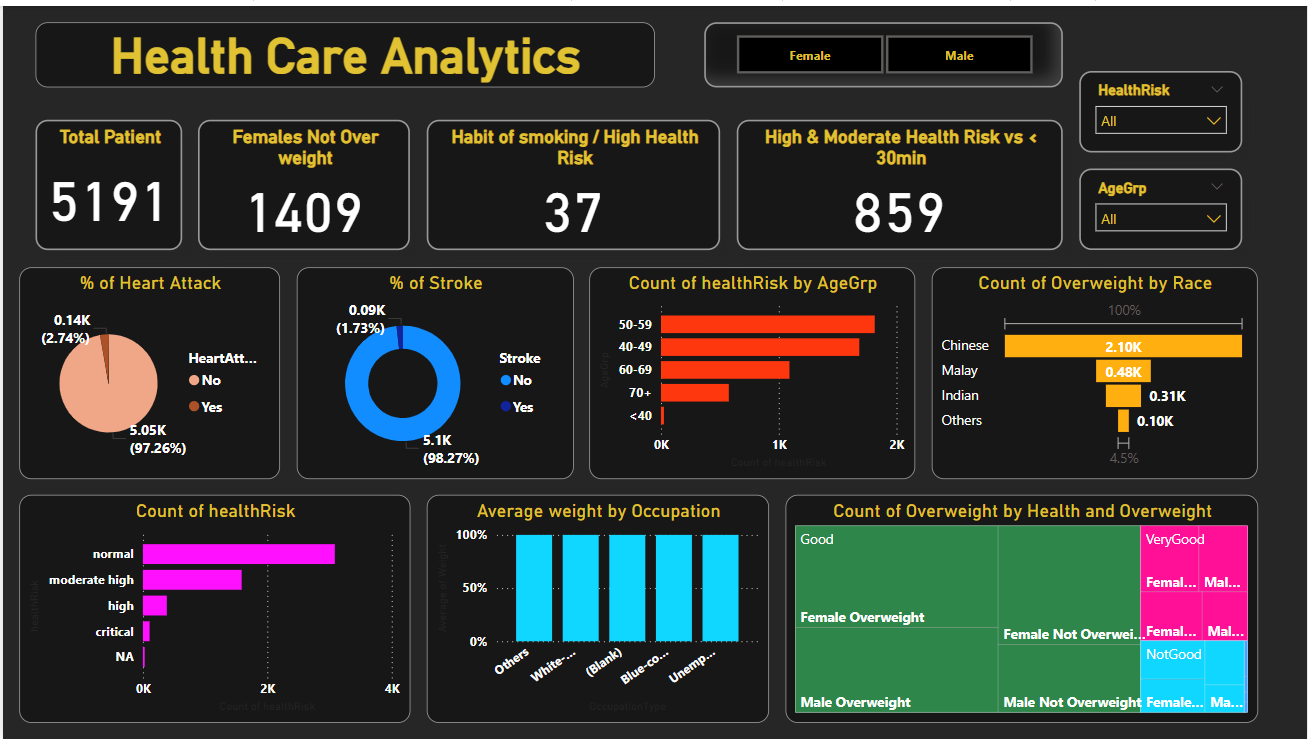

The dashboard page shown, as its layout file describes it:
{"tool":"powerbi","page":{"name":"Health Care Analytics ","canvas":[1280,720],"ordinal":0},"visuals":[{"type":"card","title":"Total Patient ","fields":{"Values":["CountNonNull(Table1.scnZone)"]},"box":[32,112,144,128],"z":0},{"type":"pieChart","title":"% of  Heart Attack ","fields":{"Category":["Table1.HeartAttack"],"Y":["CountNonNull(Table1.HeartAttack)"]},"box":[16,256,256,208],"z":1000},{"type":"donutChart","title":"% of Stroke","fields":{"Category":["Table1.Stroke"],"Y":["CountNonNull(Table1.Stroke)"]},"box":[288,256,272,208],"z":2000},{"type":"card","title":"Females Not Over weight","fields":{"Values":["CountNonNull(Table1.Overweight)"]},"box":[192,112,208,128],"z":3000},{"type":"barChart","title":"Count of healthRisk ","fields":{"Category":["Table1.healthRisk"],"Y":["CountNonNull(Table1.healthRisk)"]},"box":[16,480,384,224],"z":4000},{"type":"hundredPercentStackedColumnChart","title":"Average weight by Occupation","fields":{"Category":["Table1.OccupationType"],"Y":["Avg(Table1.Weight)"]},"box":[416,480,336,224],"z":5000},{"type":"funnel","fields":{"Category":["Table1.Race"],"Y":["CountNonNull(Table1.Overweight)"]},"box":[912,256,320,208],"z":6000},{"type":"barChart","fields":{"Category":["Table1.AgeGrp"],"Y":["CountNonNull(Table1.healthRisk)"]},"box":[576,256,320,208],"z":7000},{"type":"card","title":"Habit of smoking / High Health Risk","fields":{"Values":["CountNonNull(Table1.Smoking)"]},"box":[416,112,288,128],"z":8000},{"type":"card","title":"High & Moderate Health Risk vs < 30min","fields":{"Values":["CountNonNull(Table1.Exercise)"]},"box":[720,112,320,128],"z":9000},{"type":"treemap","fields":{"Group":["Table1.Health"],"Values":["CountNonNull(Table1.Overweight)"],"Details":["Table1.Overweight"]},"box":[768,480,464,224],"z":10000},{"type":"slicer","fields":{"Values":["Table1.Gender"]},"box":[688,16,352,64],"z":11000},{"type":"slicer","fields":{"Values":["Table1.healthRisk"]},"box":[1056,64,160,80],"z":12000},{"type":"slicer","fields":{"Values":["Table1.AgeGrp"]},"box":[1056,160,160,80],"z":13000},{"type":"textbox","title":"Health Care Analytics ","box":[32,16,608,64],"z":15000}]}

Visuals, with their boxes in screenshot pixels (x1, y1, x2, y2), scaled from the page's 1280x720 canvas onto the 1308x739 screenshot:
"Total Patient " card: rect(33, 115, 180, 246)
"% of  Heart Attack " pieChart: rect(16, 263, 278, 476)
"% of Stroke" donutChart: rect(294, 263, 572, 476)
"Females Not Over weight" card: rect(196, 115, 409, 246)
"Count of healthRisk " barChart: rect(16, 493, 409, 723)
"Average weight by Occupation" hundredPercentStackedColumnChart: rect(425, 493, 768, 723)
funnel - Table1.Race x CountNonNull(Table1.Overweight): rect(932, 263, 1259, 476)
barChart - Table1.AgeGrp x CountNonNull(Table1.healthRisk): rect(589, 263, 916, 476)
"Habit of smoking / High Health Risk" card: rect(425, 115, 719, 246)
"High & Moderate Health Risk vs < 30min" card: rect(736, 115, 1063, 246)
treemap - Table1.Health x CountNonNull(Table1.Overweight): rect(785, 493, 1259, 723)
slicer - Table1.Gender: rect(703, 16, 1063, 82)
slicer - Table1.healthRisk: rect(1079, 66, 1243, 148)
slicer - Table1.AgeGrp: rect(1079, 164, 1243, 246)
"Health Care Analytics " textbox: rect(33, 16, 654, 82)
